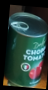tomatoes: (4, 12, 47, 87)
